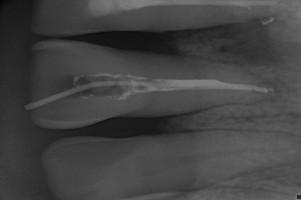Furcation Involvement: (178, 17, 300, 67)
